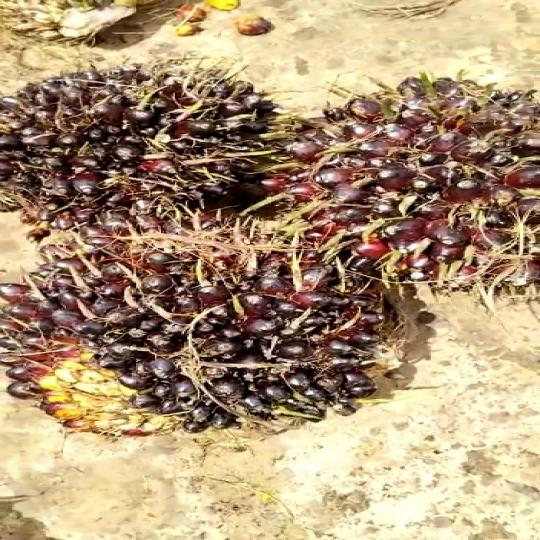mentah: (0, 234, 414, 433), (292, 75, 540, 298), (0, 57, 288, 239)
